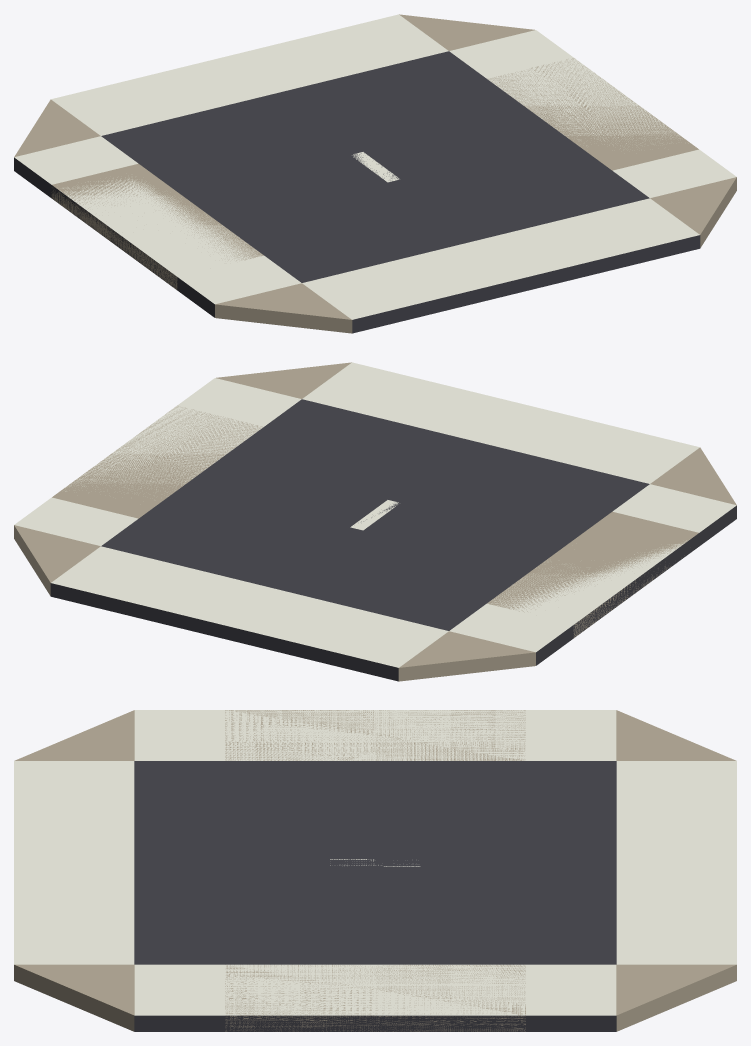
File: Kit_Street.glb
The picture shows the model from 3 angles, top to bottom: view 1: azimuth 30°, elevation 25°; view 2: azimuth 150°, elevation 25°; view 3: azimuth 270°, elevation 25°; orthographic projection. The views are drawn at different scales.
Parts seen in each view (by area): view 1: Kit_Street_Crossing, Kit_Street_Straight; view 2: Kit_Street_Crossing, Kit_Street_Straight; view 3: Kit_Street_Crossing, Kit_Street_Straight.
Part boxes in pixels (bbox=[...]): Kit_Street_Crossing: bbox=[14, 14, 736, 333]; Kit_Street_Straight: bbox=[51, 58, 698, 289]; Kit_Street_Crossing: bbox=[14, 362, 736, 681]; Kit_Street_Straight: bbox=[52, 405, 698, 637]; Kit_Street_Crossing: bbox=[14, 710, 736, 1031]; Kit_Street_Straight: bbox=[225, 710, 525, 1031].
Size of the model in its own units: 24 by 0.6 by 24.
